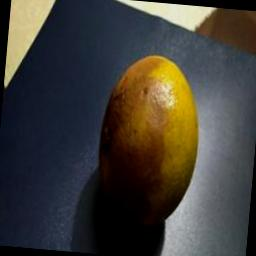Orange Overripe: (86, 41, 216, 228)
